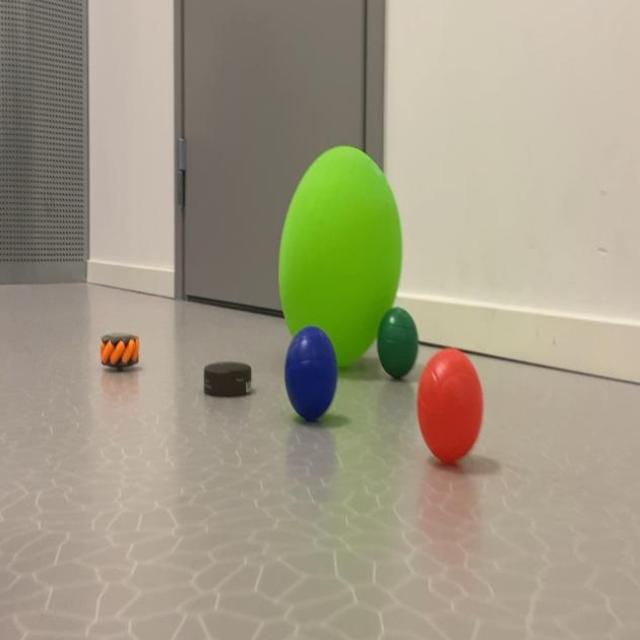blue ball: (285, 326, 337, 434)
green ball: (377, 309, 419, 377)
red ball: (424, 348, 483, 478)
